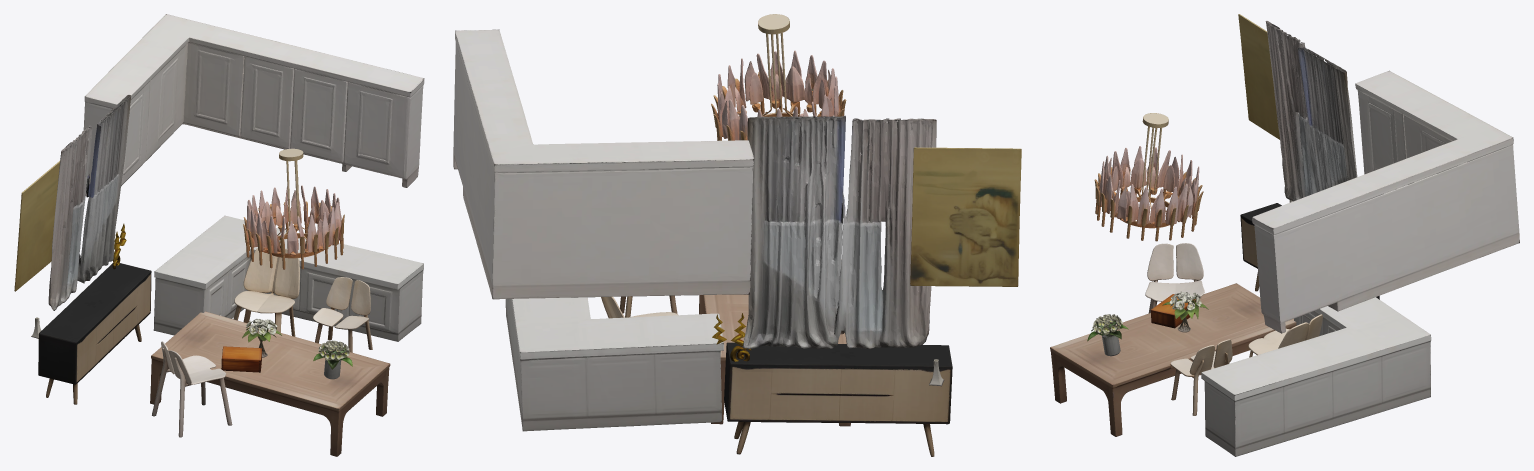
File: sam3d.glb
3 views of the same model, side by side, from view 1: azimuth 30°, elevation 25°; view 2: azimuth 150°, elevation 25°; view 3: azimuth 270°, elevation 25° (orthographic). The views are drawn at different scales.
Visible parts, largest first — view 1: object_18, object_21, object_22, object_2, object_16, object_1, object_5, object_6, object_13, object_3, object_4, object_8 (+1 smaller); view 2: object_18, object_2, object_21, object_16, object_5, object_1, object_22, object_9; view 3: object_18, object_21, object_22, object_2, object_1, object_5, object_3, object_13, object_6, object_16, object_8, object_10 (+1 smaller).
Boxes of the visible parts, <box> form: object_18: <box>83,14,424,196</box>; object_21: <box>153,215,423,341</box>; object_22: <box>150,311,390,456</box>; object_2: <box>48,95,130,310</box>; object_16: <box>38,263,151,404</box>; object_1: <box>243,148,344,269</box>; object_5: <box>14,160,60,291</box>; object_6: <box>233,248,299,336</box>; object_13: <box>313,277,372,352</box>; object_3: <box>152,341,232,437</box>; object_4: <box>221,346,262,372</box>; object_8: <box>313,340,352,379</box>; object_18: <box>453,29,754,299</box>; object_2: <box>742,115,936,349</box>; object_21: <box>505,297,723,431</box>; object_16: <box>724,342,952,456</box>; object_5: <box>910,147,1021,286</box>; object_1: <box>711,14,846,140</box>; object_22: <box>699,259,850,426</box>; object_9: <box>712,313,750,361</box>; object_18: <box>1252,70,1519,333</box>; object_21: <box>1201,297,1431,456</box>; object_22: <box>1050,283,1296,436</box>; object_2: <box>1265,21,1357,201</box>; object_1: <box>1094,113,1203,241</box>; object_5: <box>1238,14,1279,139</box>; object_3: <box>1145,243,1204,313</box>; object_13: <box>1170,339,1232,415</box>; object_6: <box>1248,314,1322,357</box>; object_16: <box>1240,203,1379,299</box>; object_8: <box>1087,314,1128,356</box>; object_10: <box>1162,291,1208,332</box>.
Bounding box in the file's own units: 2.16 × 1.37 × 1.98.
15 materials, 15 textured.
